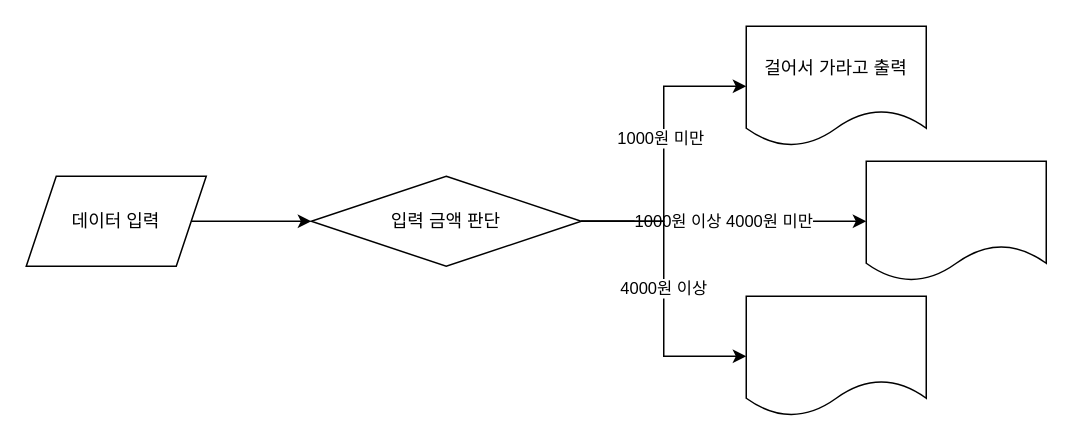
Some shapes in this 1073 by 443 pixel diagram are drawn without their labels. The centre of each missing label's shape, as x and y in pixels:
지하철, 버스 타고 가라고 출력: pixel 955 220
택시 타고 가라고 출력: pixel 835 355
